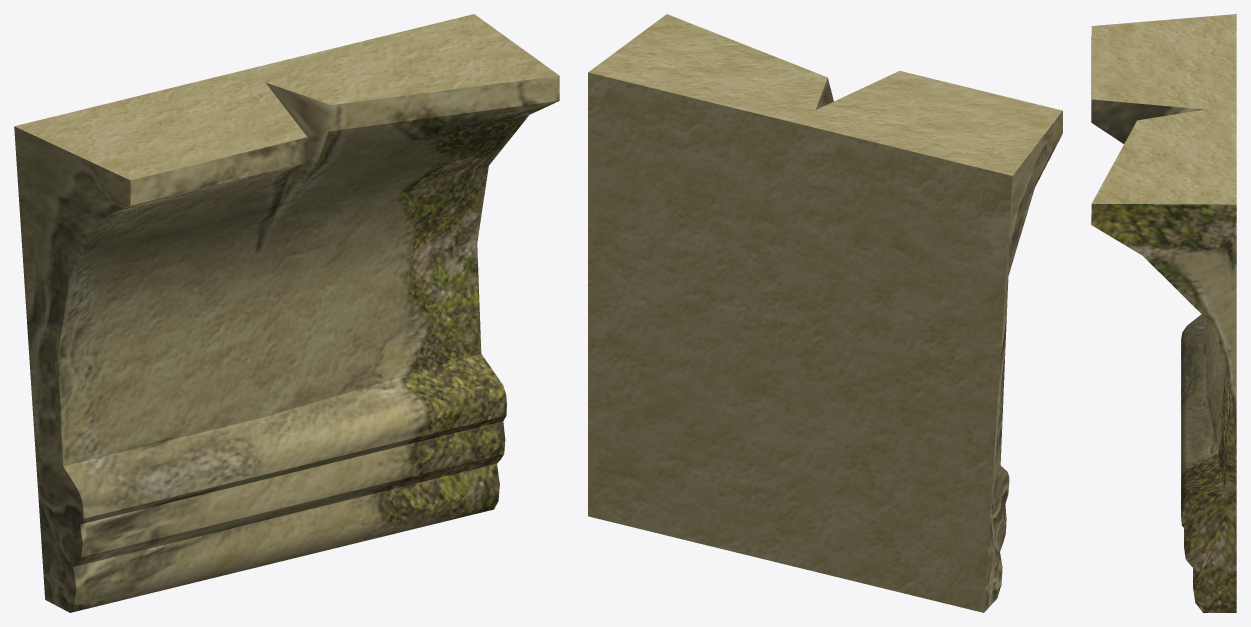
The model's file is Debris_Small_Plaster_01.fbx.
3 renders of one model, left to right at view 1: azimuth 30°, elevation 25°; view 2: azimuth 150°, elevation 25°; view 3: azimuth 270°, elevation 25°, orthographic. The views are drawn at different scales.
Visible parts, largest first — view 1: Debris_Small_Plaster_01; view 2: Debris_Small_Plaster_01; view 3: Debris_Small_Plaster_01.
Part boxes in pixels (x1,y1,x2,y2): Debris_Small_Plaster_01: [14, 14, 559, 612]; Debris_Small_Plaster_01: [588, 14, 1062, 612]; Debris_Small_Plaster_01: [1091, 14, 1236, 612].
Bounding box in the file's own units: 0.25 × 0.2503 × 0.0804.
